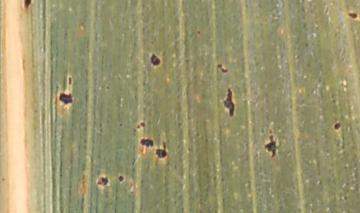tarspot: (223, 89, 235, 116), (265, 135, 276, 158), (156, 140, 167, 158), (59, 91, 73, 105), (139, 137, 154, 148), (150, 52, 161, 66), (98, 176, 108, 187), (217, 62, 228, 72), (22, 1, 33, 10), (348, 12, 359, 19), (333, 122, 341, 130), (118, 173, 124, 183), (139, 120, 147, 127), (67, 76, 73, 85), (197, 29, 202, 36), (106, 84, 111, 90), (117, 123, 124, 127), (269, 129, 273, 134)
